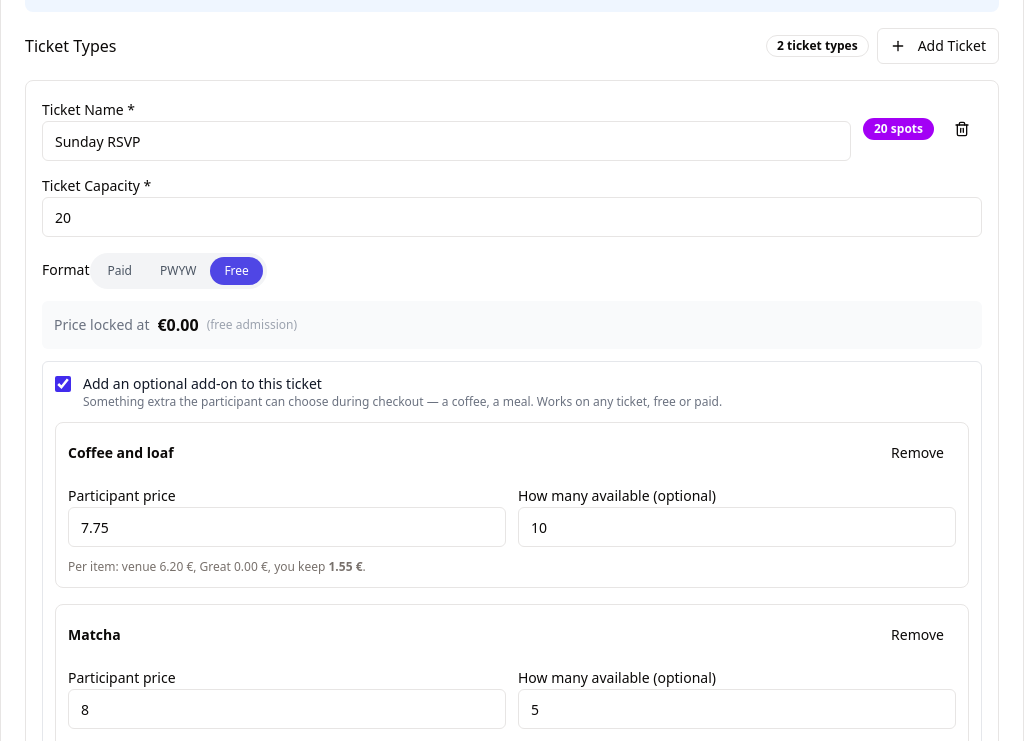
adds every product once, respects separate stock limits, and keeps attendee capacity unchanged
The image size is (1024, 741).
(page scrolled)
Click the checkbox with test id "checkbox-ticket-addon-enabled-0" at [63, 384], box [55,376,71,392]
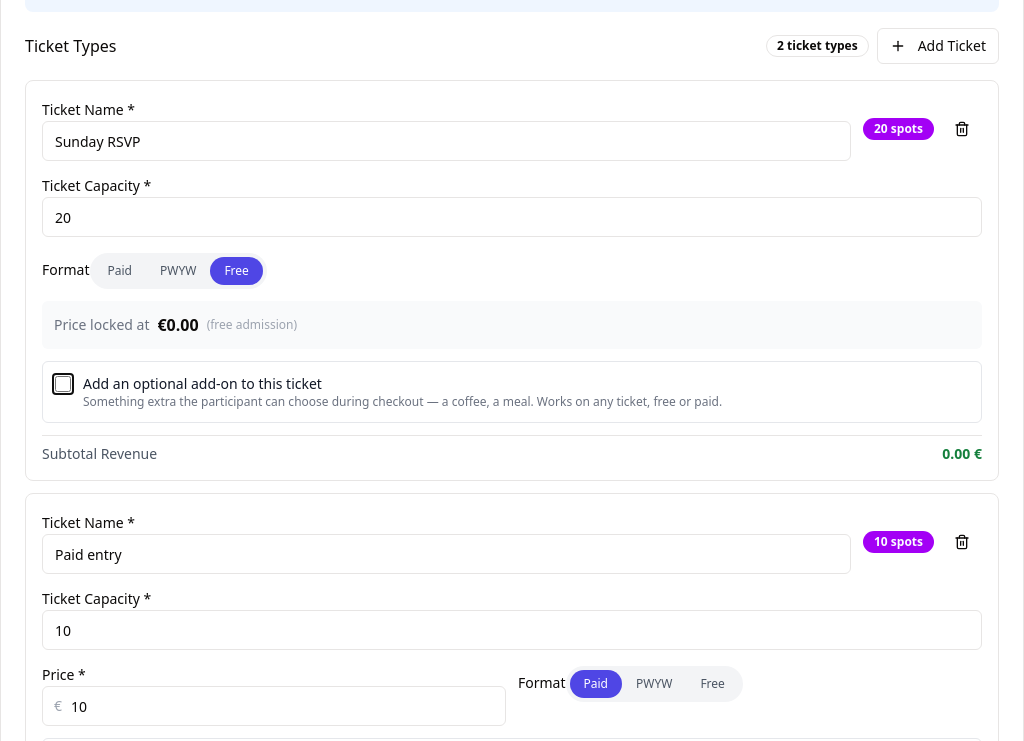
Expected: the text with test id "ticket-sku-revenue-0" reads "0.00 €", [942,444,982,463]
